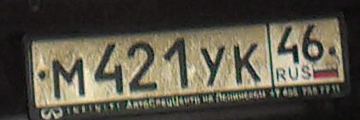character: (93, 40, 126, 98), (159, 33, 191, 91), (126, 38, 158, 94), (51, 56, 88, 100), (232, 42, 265, 87), (199, 42, 227, 87), (303, 21, 327, 66), (277, 24, 301, 67)
